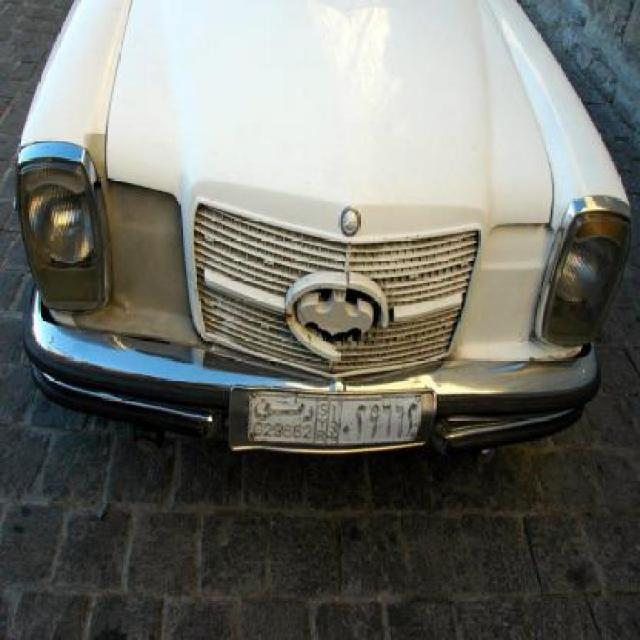License-Plates: (229, 388, 436, 456)
